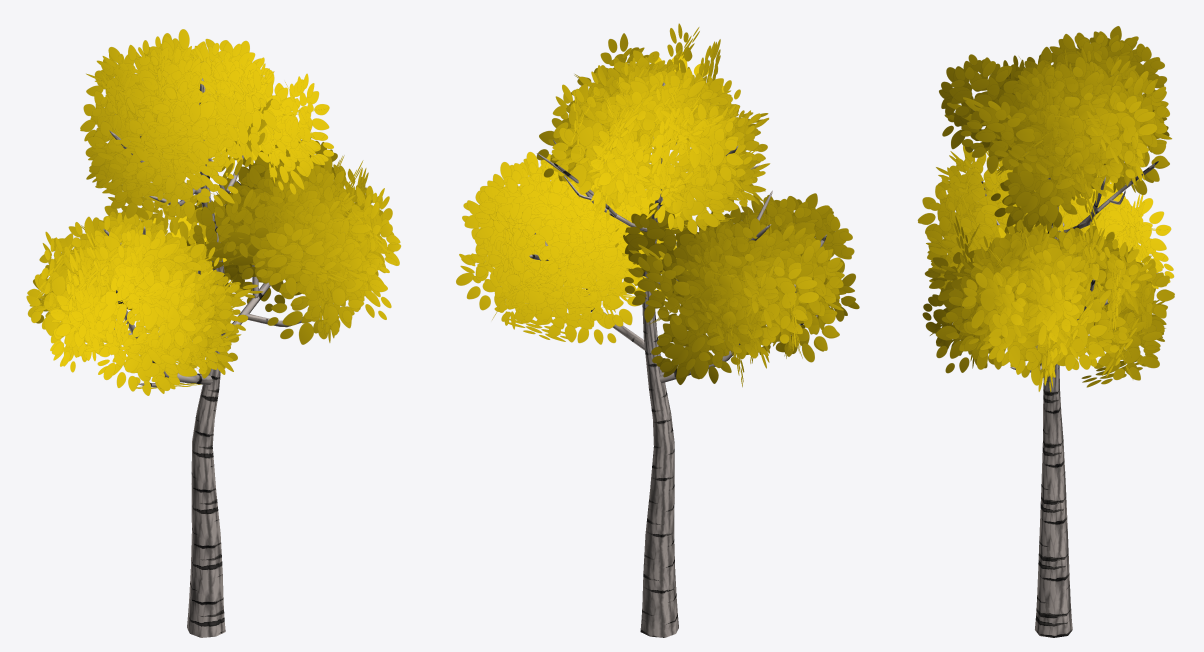
File: birch.glb
The picture shows the model from 3 angles, left to right: view 1: azimuth 30°, elevation 25°; view 2: azimuth 150°, elevation 25°; view 3: azimuth 270°, elevation 25°; orthographic projection.
Visible parts, largest first — view 1: BirchTree_4; view 2: BirchTree_4; view 3: BirchTree_4.
Boxes of the visible parts, x1,y1,x2,y2 form: BirchTree_4: [26, 29, 400, 637]; BirchTree_4: [456, 23, 859, 637]; BirchTree_4: [917, 26, 1174, 637].
Size of the model in its own units: 2.78 by 4.21 by 1.84.
Materials: 2 (2 with a texture image).
